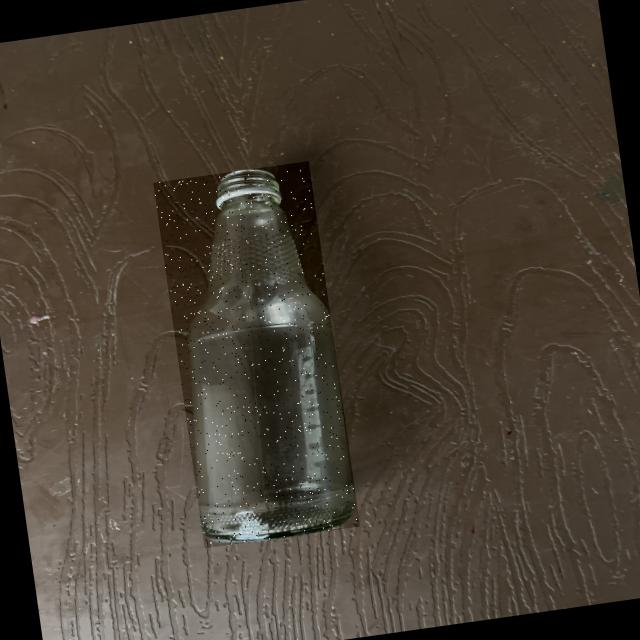Glass_Bottle: (188, 170, 353, 542)
